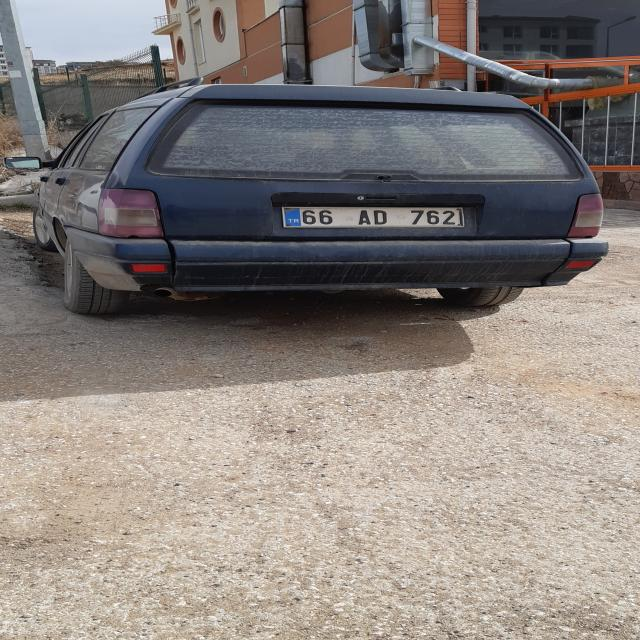plate: (281, 206, 463, 226)
